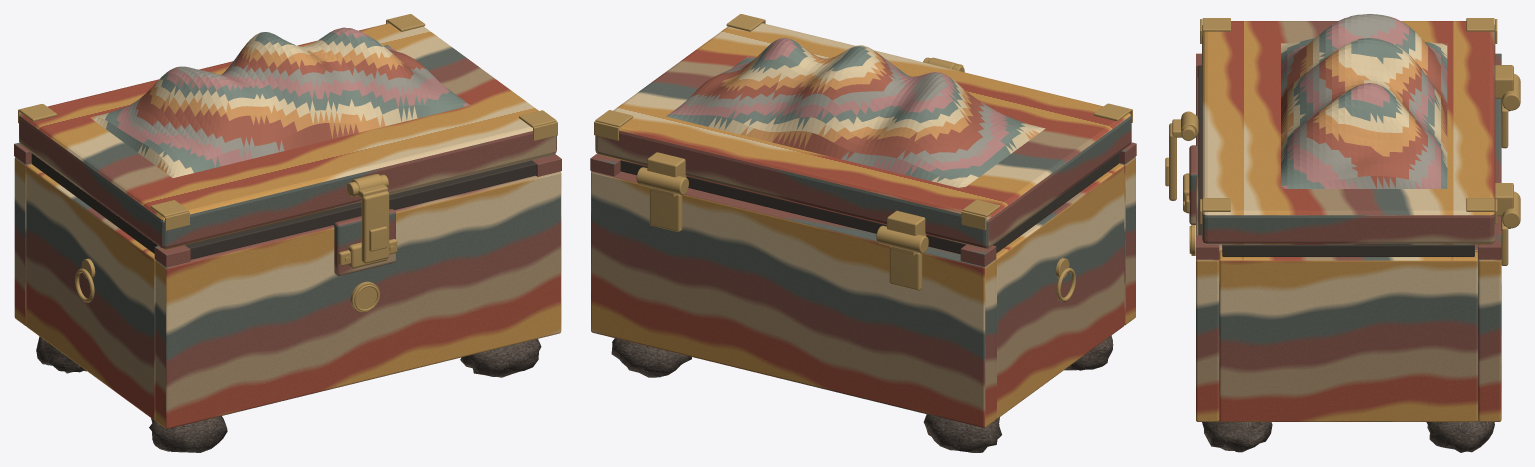
File: argentina.glb
3 views of the same model, side by side, from view 1: azimuth 30°, elevation 25°; view 2: azimuth 150°, elevation 25°; view 3: azimuth 270°, elevation 25° (orthographic).
Parts seen in each view (by area): view 1: Stone / exterior long, Lid / polished slab, Terrain / Quebrada folded ridge, Stone / exterior end, Mineral seam / long, Stone / exterior long.001, Granite foot, Granite foot.002, Latch / lifting hasp, Cedar / clasp seat, Mineral seam / side, Granite foot.001 (+2 smaller); view 2: Stone / exterior long.001, Lid / polished slab, Terrain / Quebrada folded ridge, Stone / exterior end, Mineral seam / long.001, Granite foot.001, Stone / exterior long, Granite foot.003, Mineral seam / side, Hinge / fixed mount, Hinge / fixed mount.001, Hinge / fixed barrel (+5 smaller); view 3: Stone / exterior end.001, Lid / polished slab, Terrain / Quebrada folded ridge, Stone / exterior long.001, Stone / exterior long, Mineral seam / side.001, Granite foot.002, Granite foot.003, Cedar / clasp seat, Mineral seam / long, Hinge / moving leaf, Latch / lifting hasp (+9 smaller).
Boxes of the visible parts, box(x1,y1,x2,y2) form: Stone / exterior long: box(155, 171, 561, 428); Lid / polished slab: box(19, 23, 556, 249); Terrain / Quebrada folded ridge: box(90, 27, 470, 177); Stone / exterior end: box(26, 164, 155, 420); Mineral seam / long: box(185, 160, 536, 259); Stone / exterior long.001: box(14, 157, 31, 326); Granite foot: box(149, 416, 227, 452); Granite foot.002: box(460, 339, 541, 377); Latch / lifting hasp: box(361, 191, 389, 263); Cedar / clasp seat: box(334, 209, 395, 275); Mineral seam / side: box(31, 153, 157, 253); Granite foot.001: box(36, 336, 86, 373); Stone / exterior long.001: box(591, 171, 995, 427); Lid / polished slab: box(595, 23, 1131, 248); Terrain / Quebrada folded ridge: box(666, 38, 1045, 188); Stone / exterior end: box(995, 163, 1124, 419); Mineral seam / long.001: box(620, 160, 966, 254); Granite foot.001: box(923, 414, 1001, 452); Stone / exterior long: box(1119, 157, 1135, 325); Granite foot.003: box(611, 338, 691, 377); Mineral seam / side: box(993, 153, 1118, 253); Hinge / fixed mount: box(889, 246, 922, 290); Hinge / fixed mount.001: box(649, 187, 682, 231); Hinge / fixed barrel: box(876, 225, 928, 253); Stone / exterior end.001: box(1219, 252, 1477, 421); Lid / polished slab: box(1202, 21, 1495, 244); Terrain / Quebrada folded ridge: box(1281, 14, 1447, 188); Stone / exterior long.001: box(1478, 98, 1501, 421); Stone / exterior long: box(1196, 77, 1219, 421); Mineral seam / side.001: box(1222, 244, 1474, 256); Granite foot.002: box(1202, 420, 1272, 452); Granite foot.003: box(1426, 420, 1494, 452); Cedar / clasp seat: box(1189, 145, 1198, 224); Mineral seam / long: box(1198, 65, 1201, 235); Hinge / moving leaf: box(1495, 65, 1513, 98); Latch / lifting hasp: box(1169, 123, 1176, 200).
Bounding box in the file's own units: 3.79 × 2.95 × 2.88.
10 materials, 2 textured.
